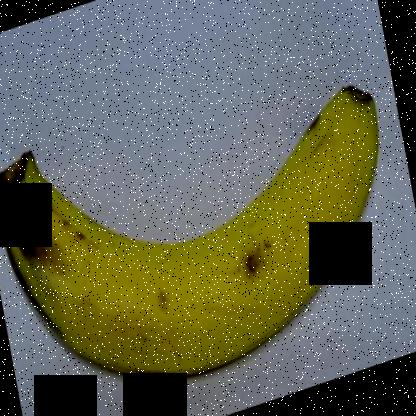freshripe: (1, 70, 386, 402)
